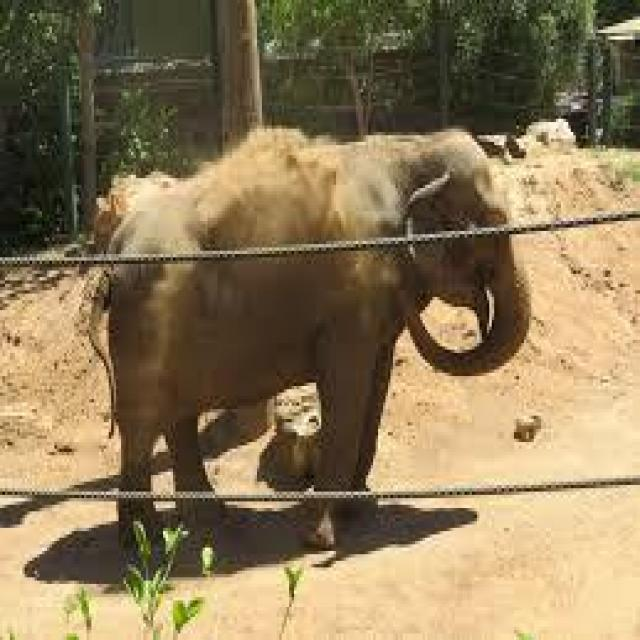Elephant: (91, 119, 526, 544)
